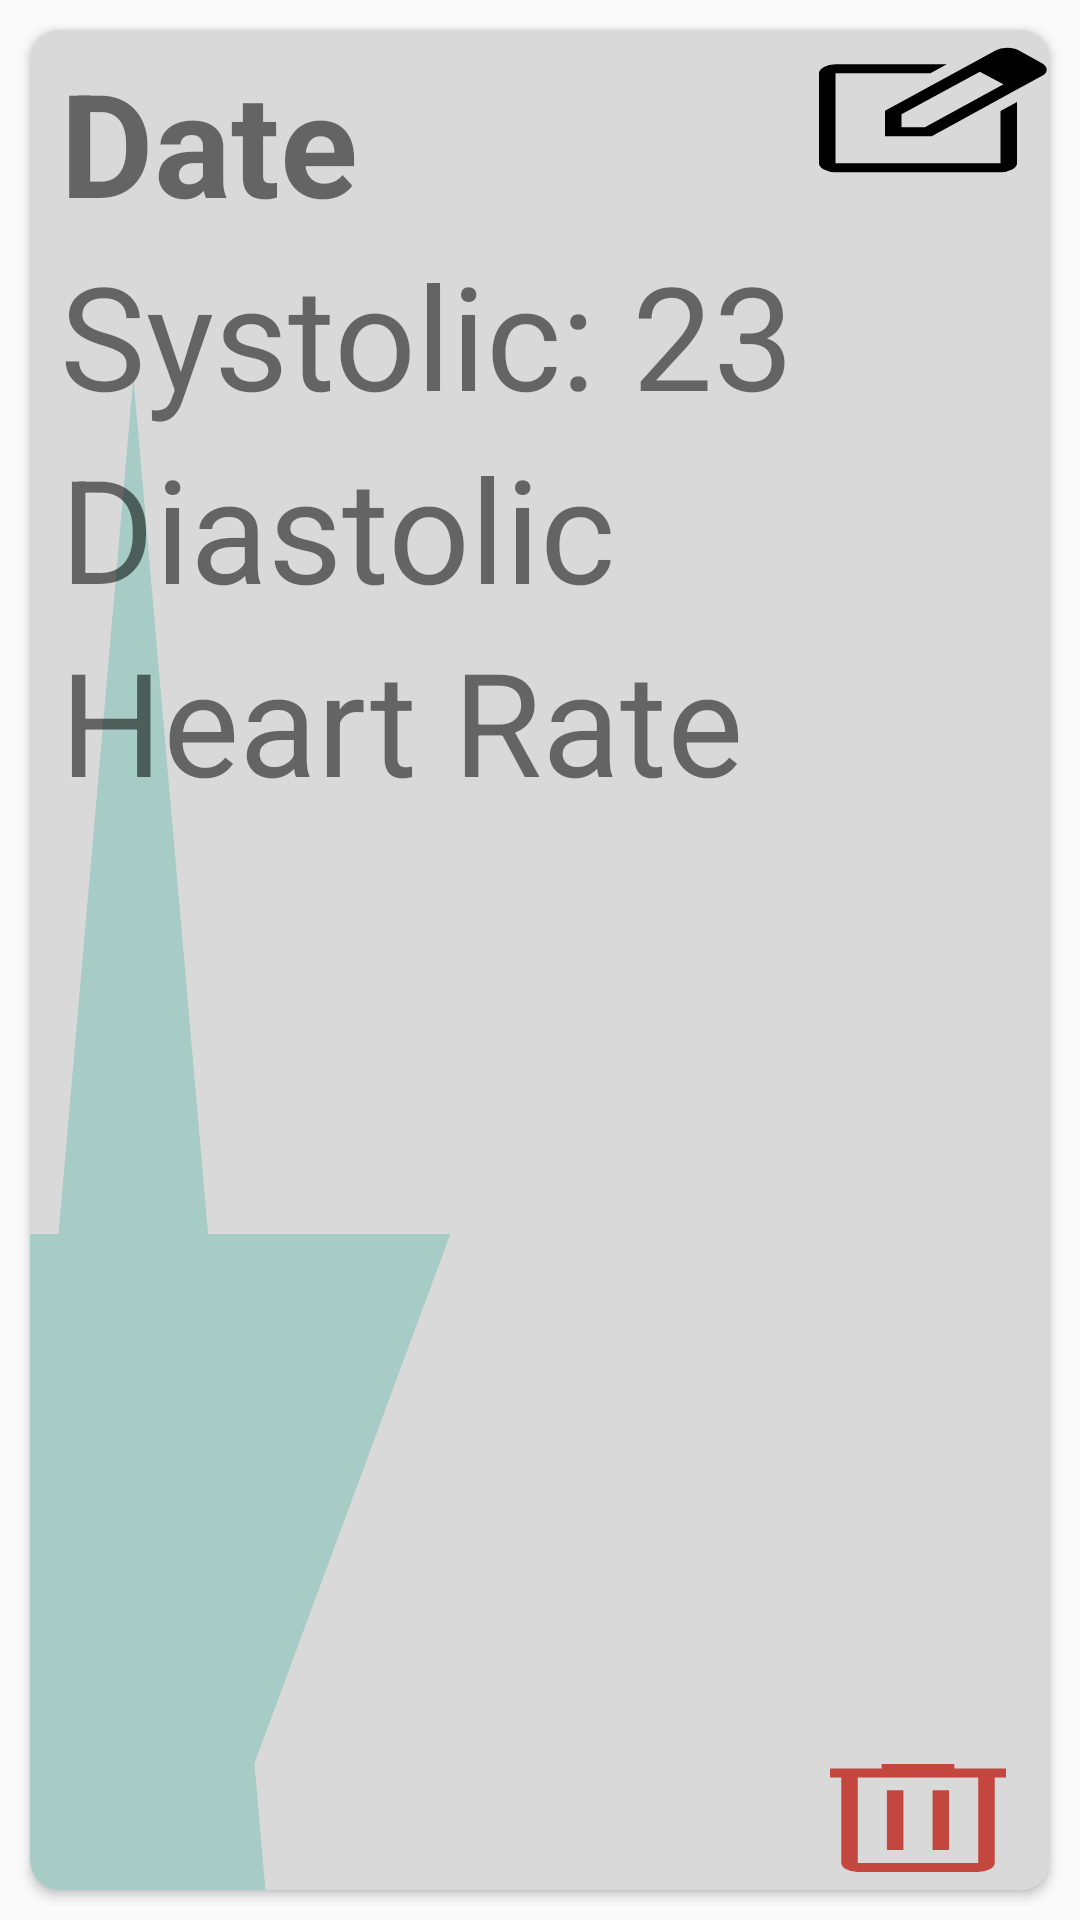

Icons on this 1080×1920 Android screen, each with the point to tap as (x=x, y=y):
delete: (x=918, y=1818)
edit: (x=933, y=110)
